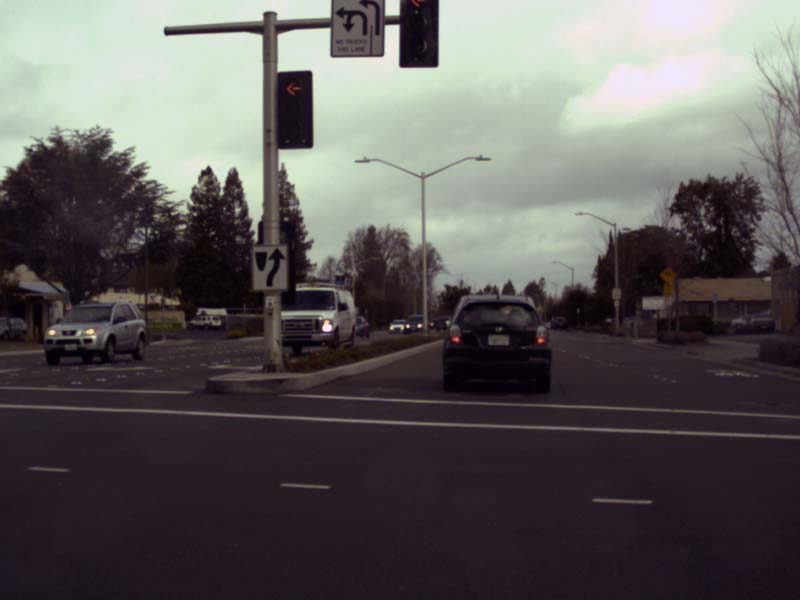Red: (278, 72, 310, 147)
